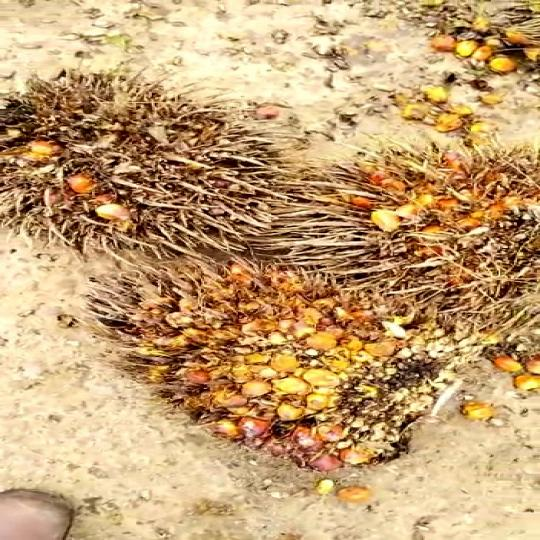terlalu masak: (78, 246, 440, 466), (0, 77, 284, 248), (290, 146, 540, 337)
